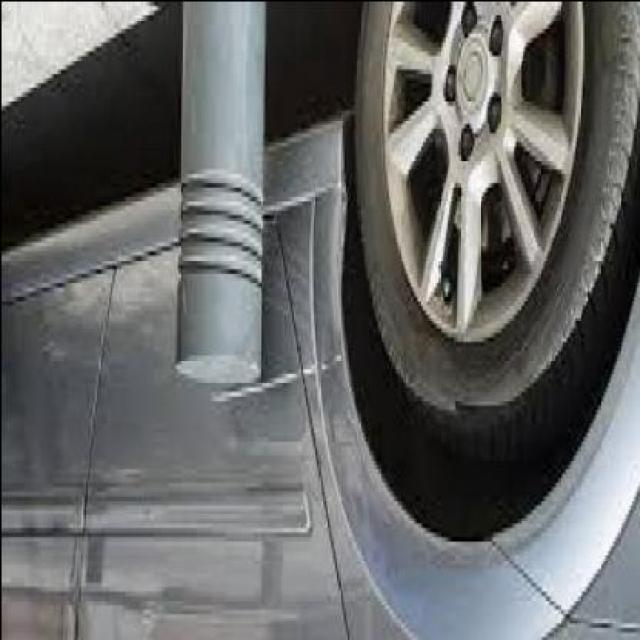damage: (201, 327, 340, 418)
